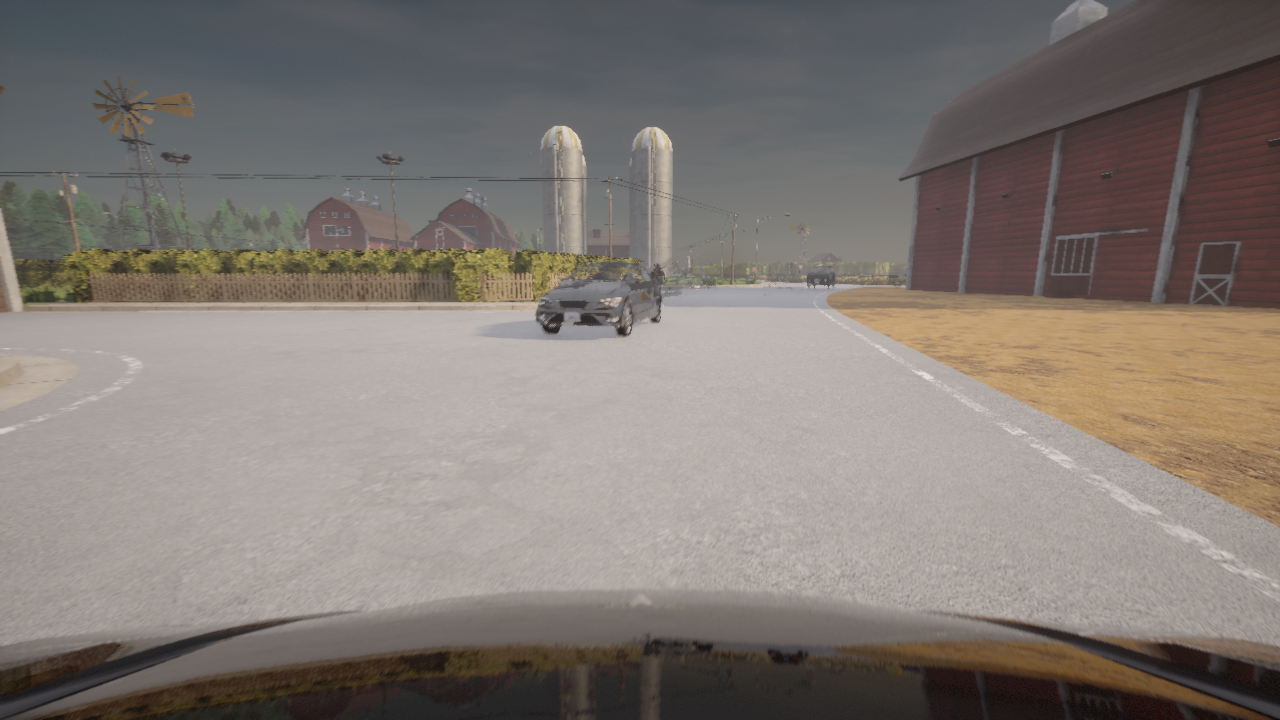cyclist: (0, 588, 1279, 719), (535, 261, 662, 336), (806, 265, 837, 289)
pedestrian: (651, 263, 658, 279), (659, 267, 664, 288), (656, 264, 660, 281), (652, 274, 655, 279), (661, 283, 662, 286)
